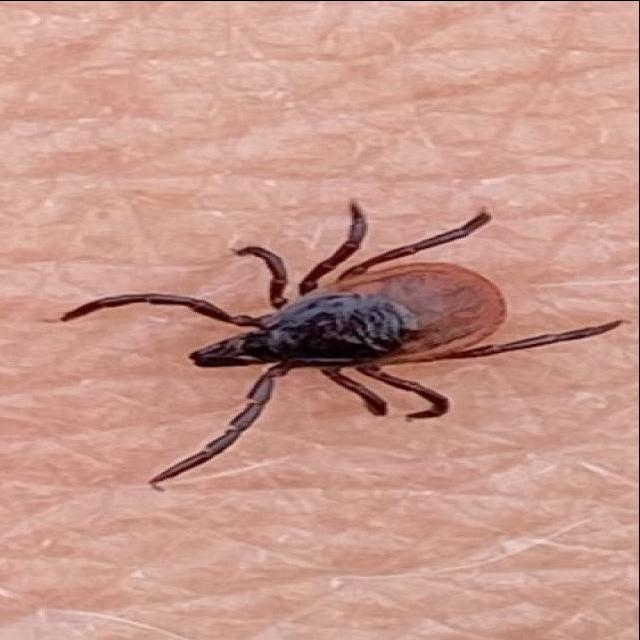Ixodes Ricinus-F: (66, 201, 620, 481)
